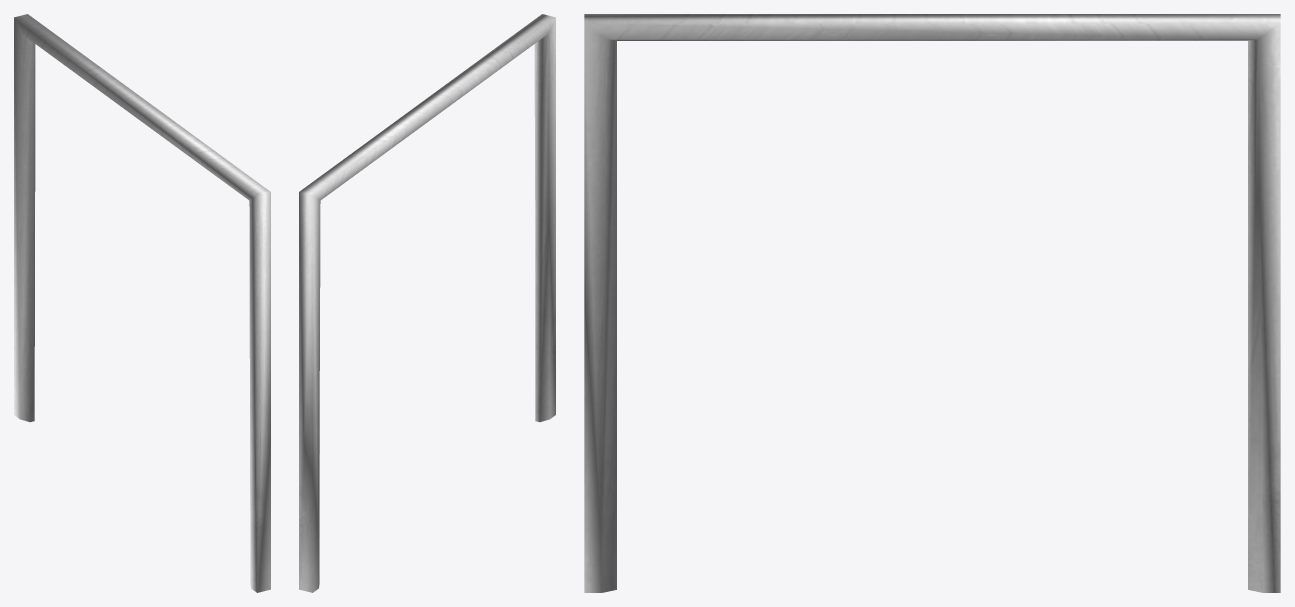
The model's file is door_2.obj.
3 renders of one model, left to right at view 1: azimuth 30°, elevation 25°; view 2: azimuth 150°, elevation 25°; view 3: azimuth 270°, elevation 25°, orthographic. The views are drawn at different scales.
Parts seen in each view (by area): view 1: door_2; view 2: door_2; view 3: door_2.
Boxes of the visible parts, box(x1,y1,x2,y2) form: door_2: box(14, 14, 270, 592); door_2: box(299, 14, 555, 592); door_2: box(584, 14, 1280, 592).
Bounding box in the file's own units: 0.7224 × 19.99 × 22.15.
Materials: 1 (1 with a texture image).
